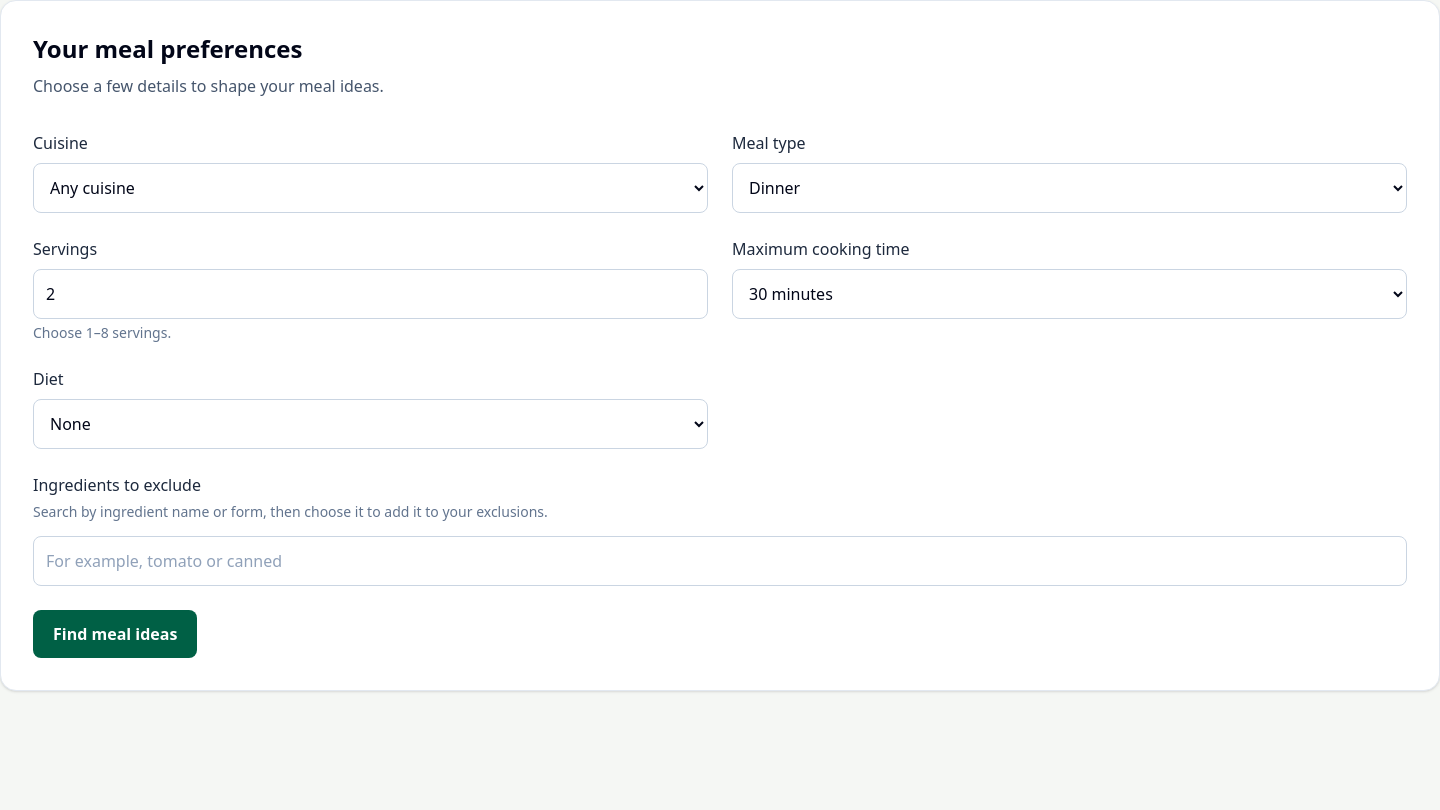
Test: preference options and form › searches ingredient name and form, adds selected codes once, and removes tags
Type "cAnNeD" into the search field labelled "Ingredients to exclude" at point(720, 561), box [33,536,1407,586]
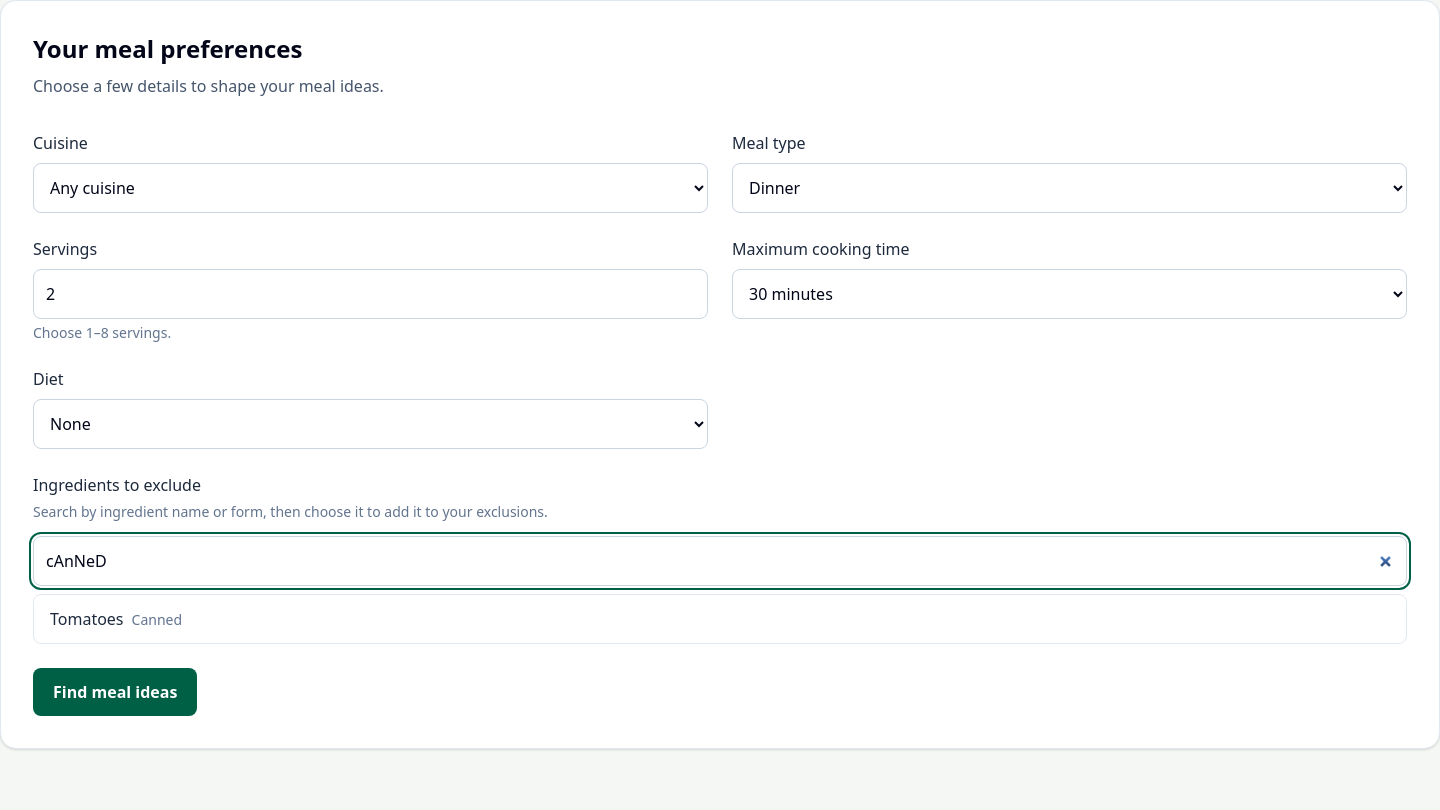
Expected: the button "Cherry tomatoes" is not shown
Click the button with aria-label "Add Tomatoes (Canned) to exclusions" at point(87, 619), box [38,599,1402,639]
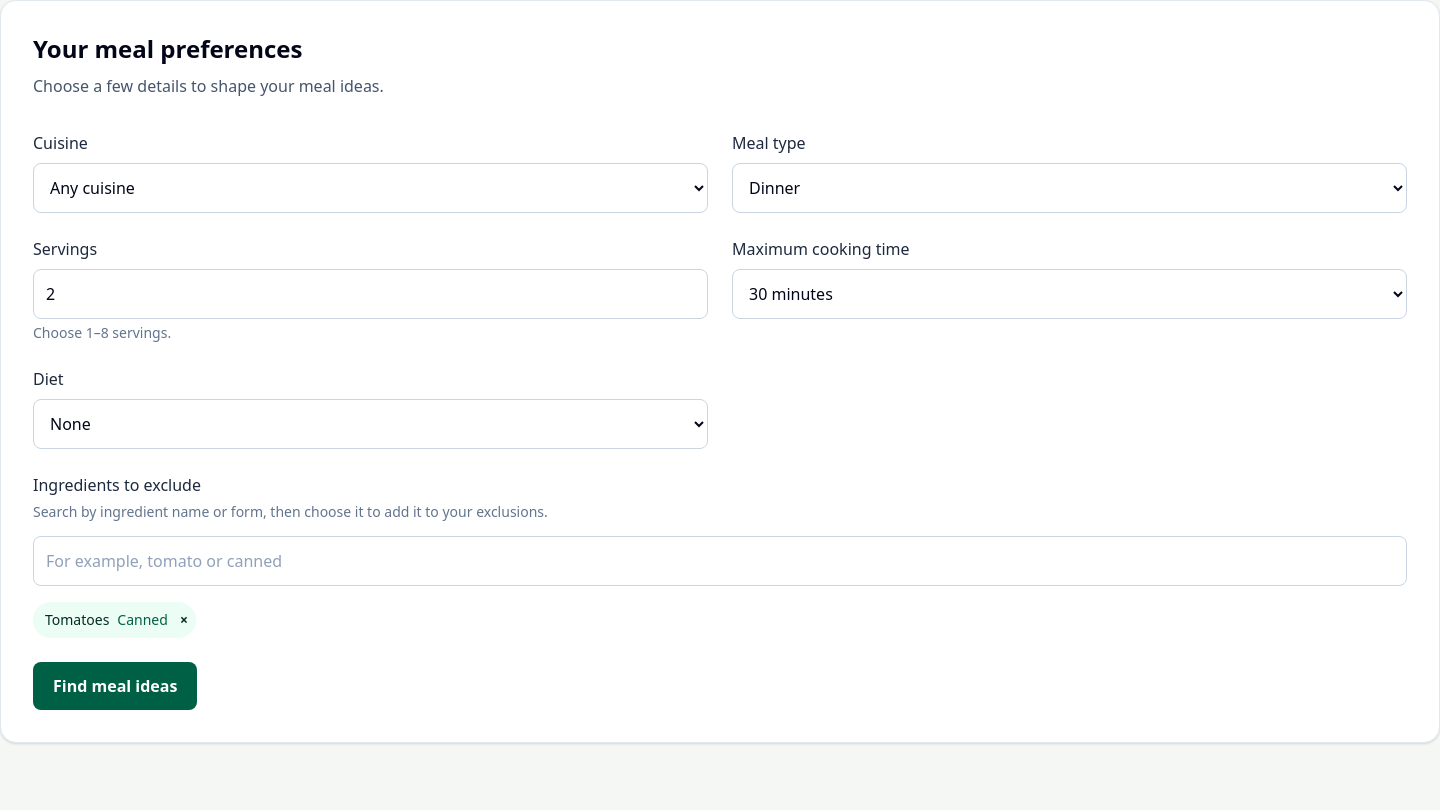
Expected: the search field labelled "Ingredients to exclude" is empty
Expected: the list named "Excluded ingredients" shows "Tomatoes", [45,610,109,629]
Type "tomato" into the search field labelled "Ingredients to exclude" at point(720, 561), box [33,536,1407,586]
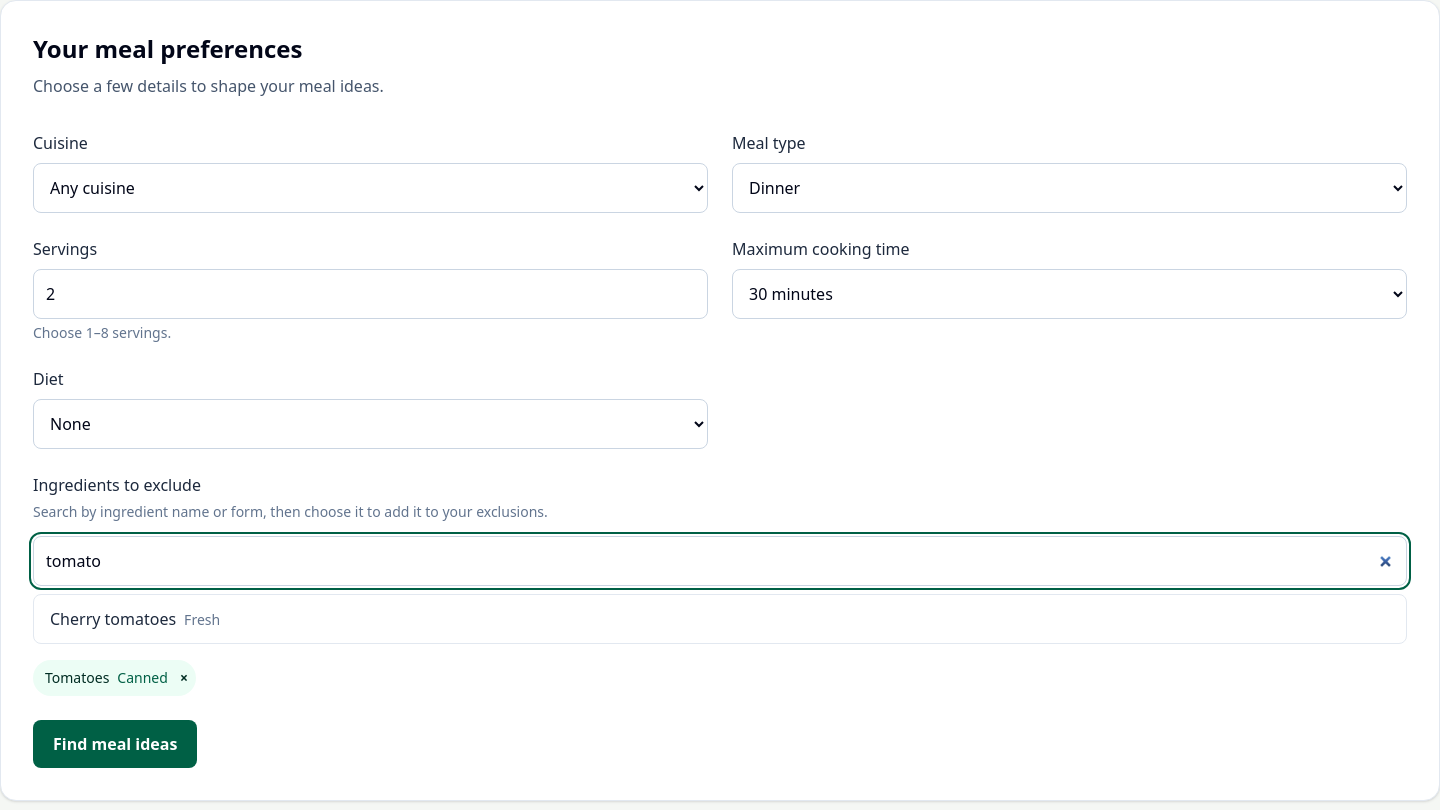
Expected: the list named "Matching ingredients" does not show "Canned", [33,594,1407,644]
Expected: the list named "Matching ingredients" shows "Cherry tomatoes", [38,599,1402,639]
Click the button named "Remove Tomatoes Canned from exclusions" at point(184, 678), box [176,664,192,692]
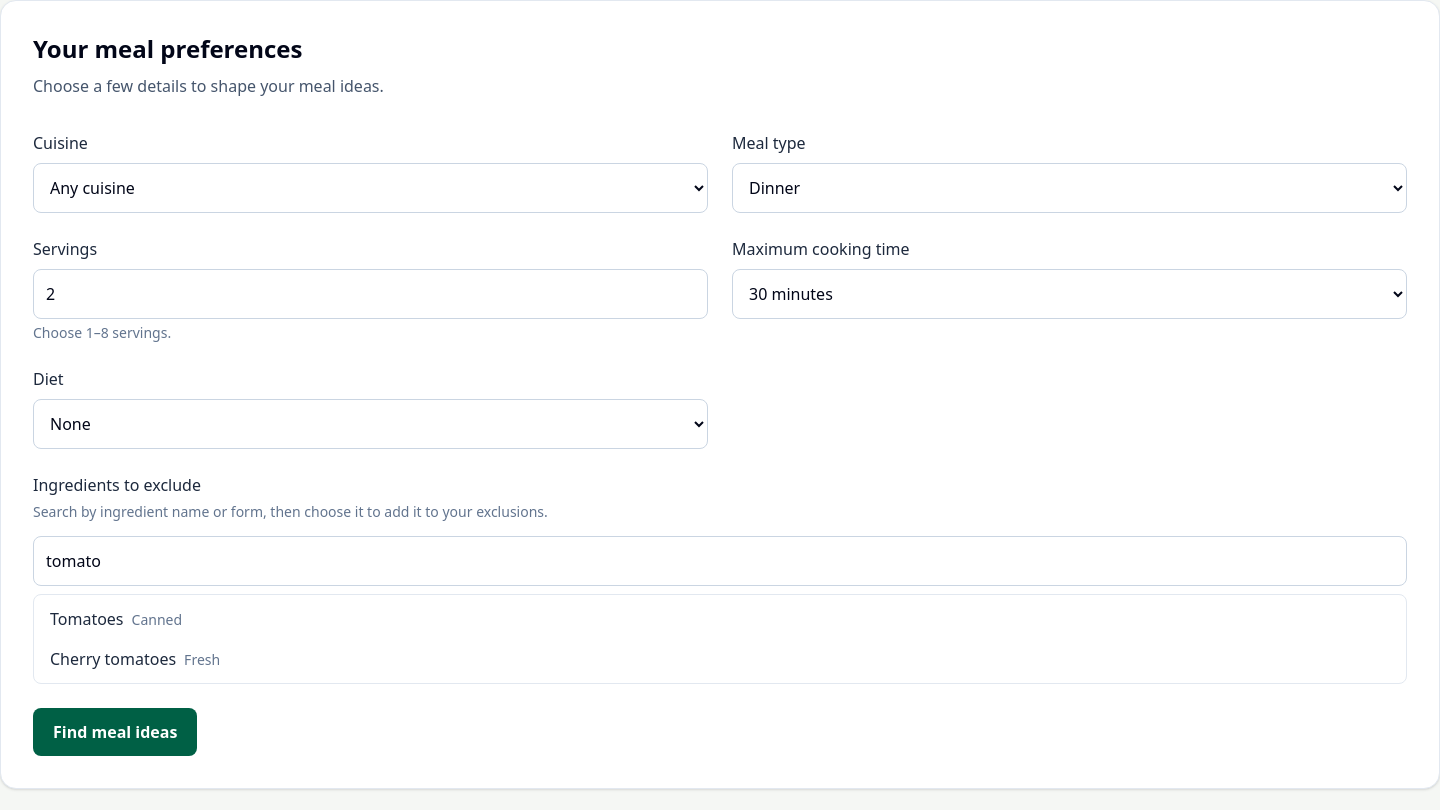
Expected: the button with aria-label "Add Tomatoes (Canned) to exclusions" is shown, [38,599,1402,639]
